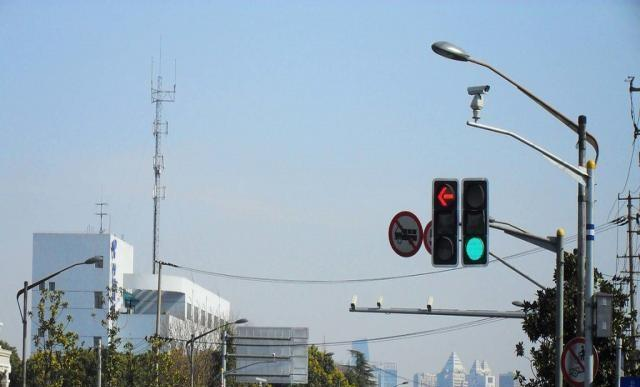green_light: (460, 178, 488, 267)
red_light: (432, 178, 459, 267)
